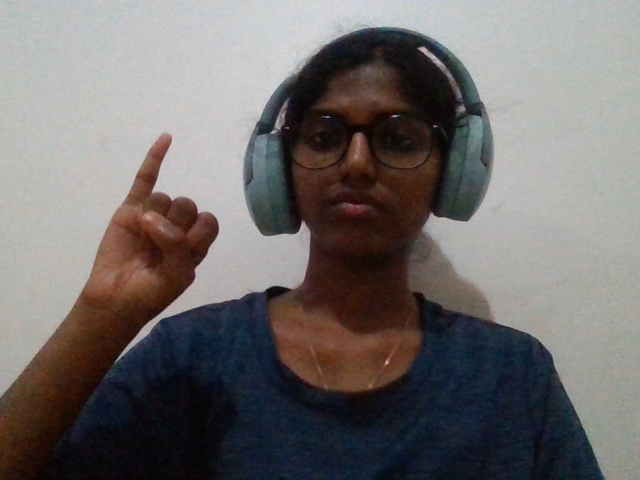I: (52, 135, 234, 348)
